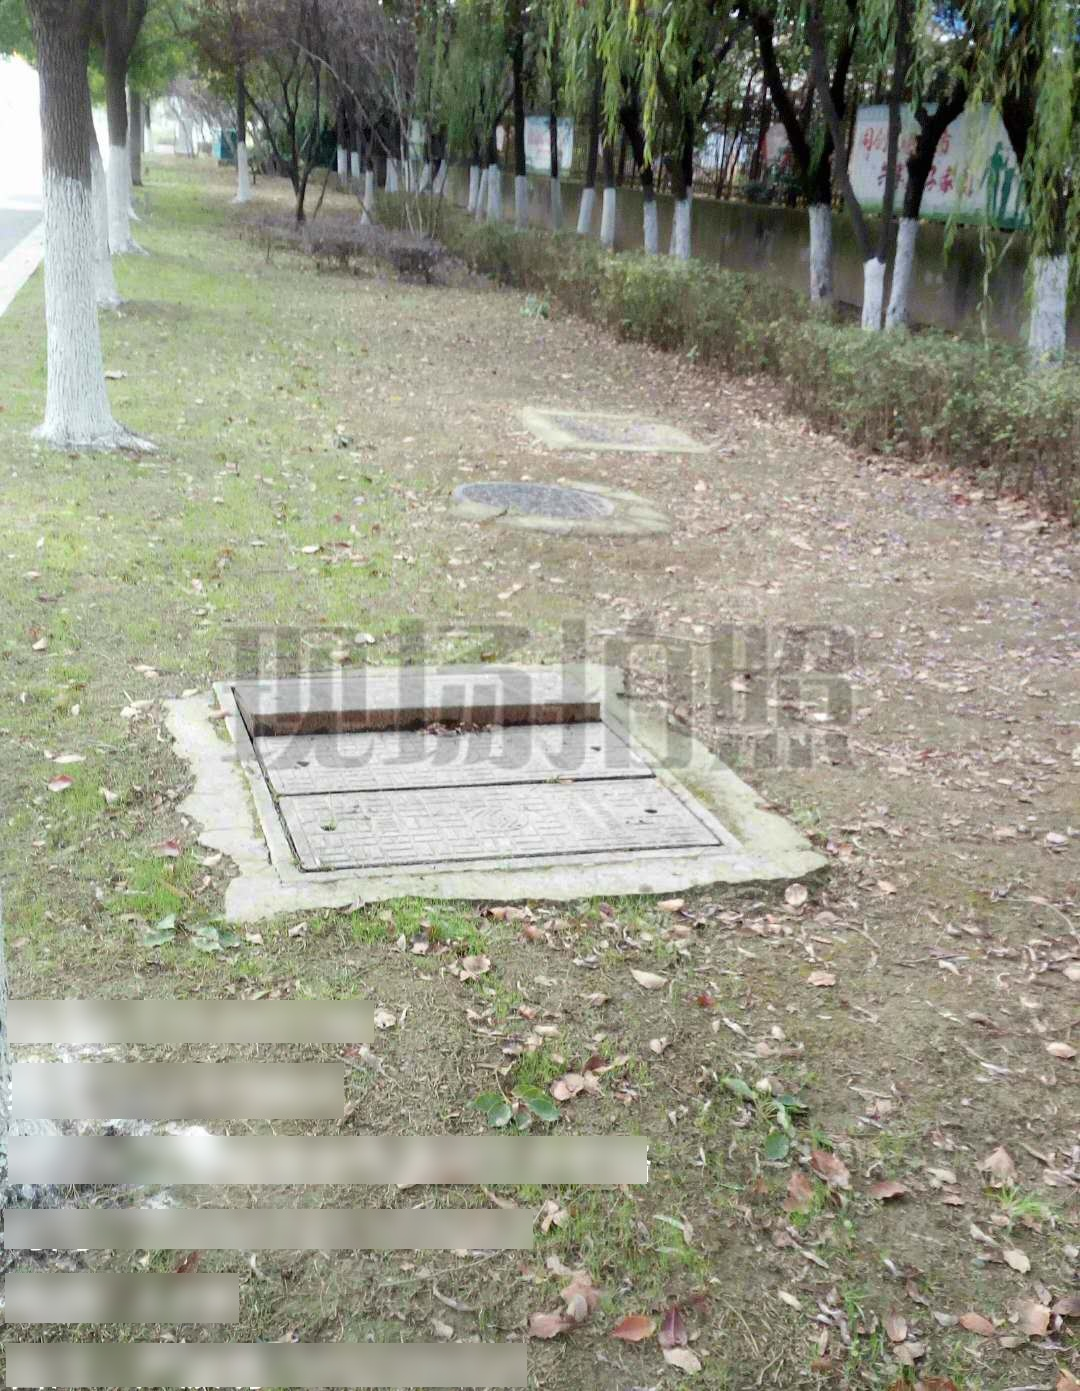good: (453, 476, 646, 533), (536, 408, 696, 458)
uncovered: (207, 665, 752, 889)
